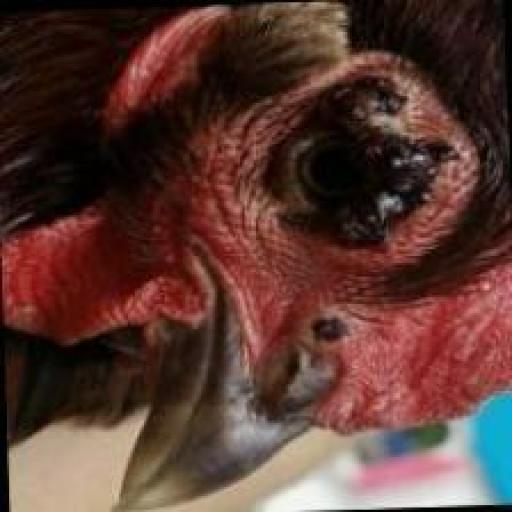disease: (257, 56, 468, 300)
